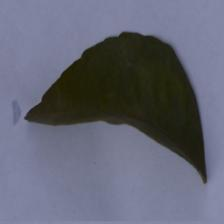greening: (22, 42, 176, 124)
